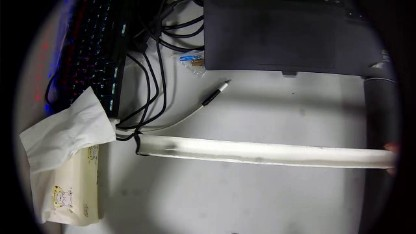gangzhu: (164, 141, 179, 156)
